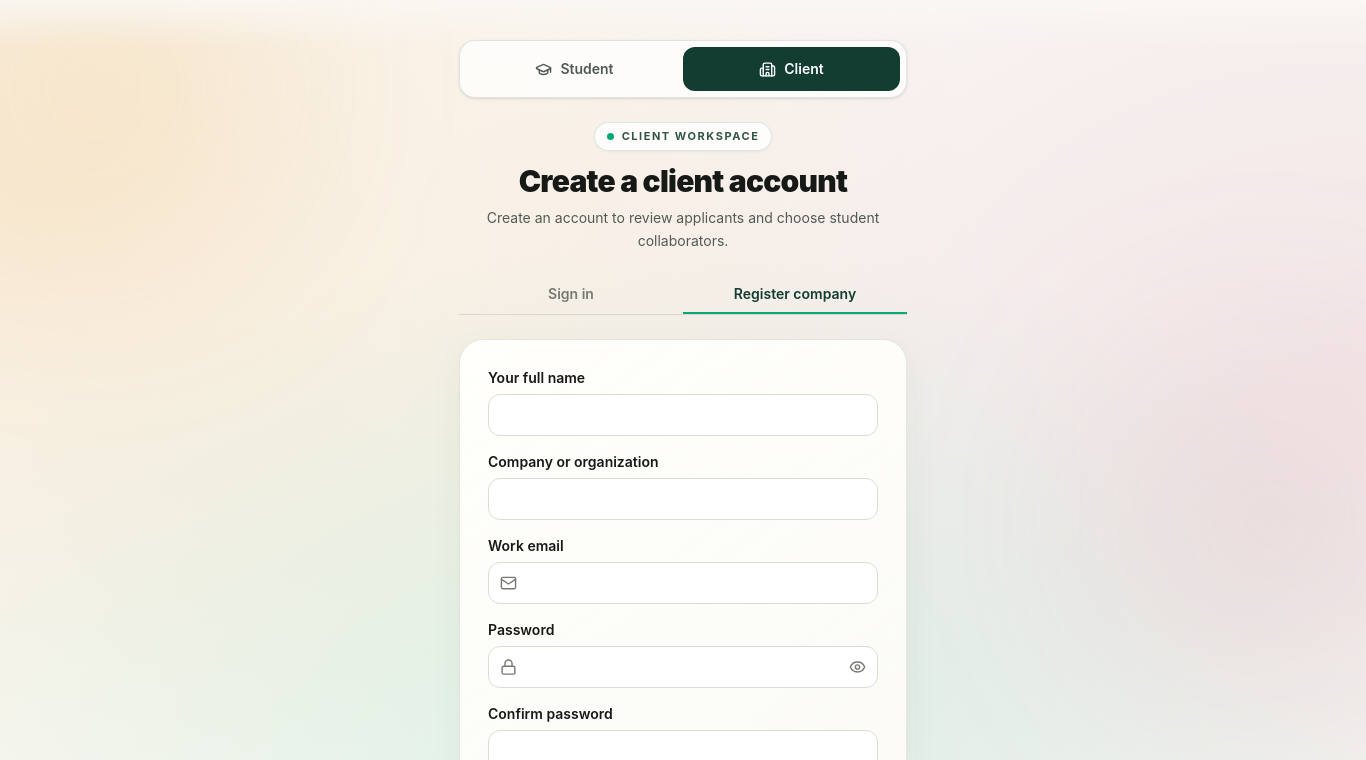
it: SignInPage › shows confirmation instructions and a resend action after client registration
In the field labelled "Your full name": (683, 415) left=488, top=394, right=878, bottom=436, type "Aarav Mehta"
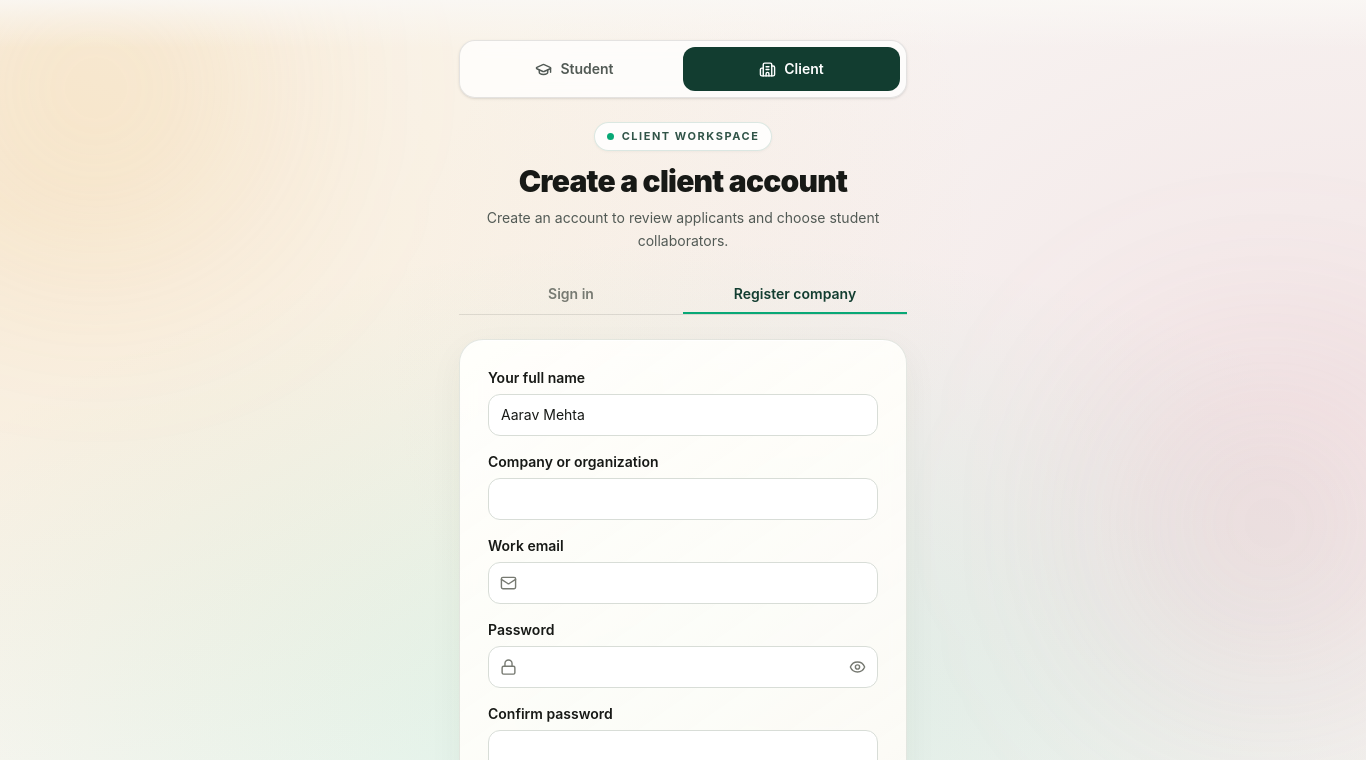
In the field labelled "Company or organization": (683, 499) left=488, top=478, right=878, bottom=520, type "Studio Co"
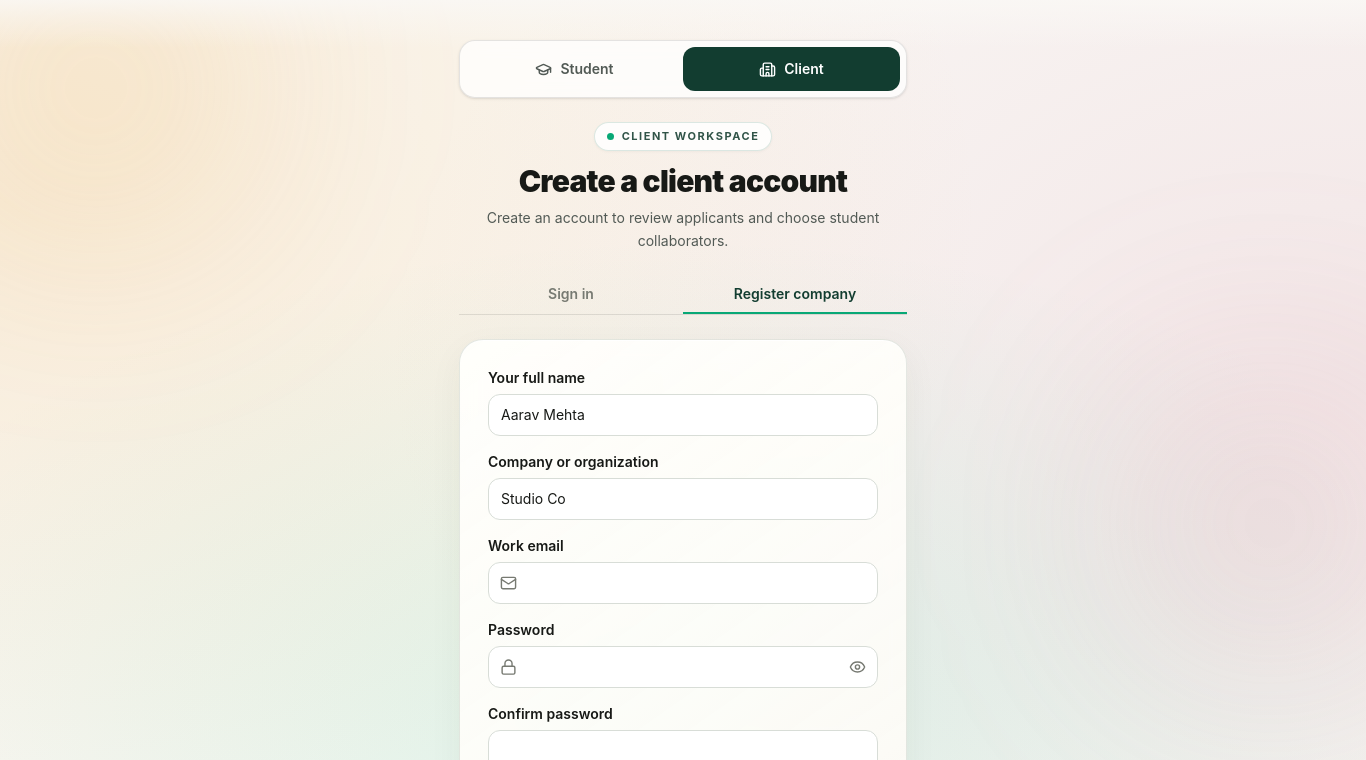
In the field labelled "Work email": (683, 583) left=488, top=562, right=878, bottom=604, type "aarav@studio.co"
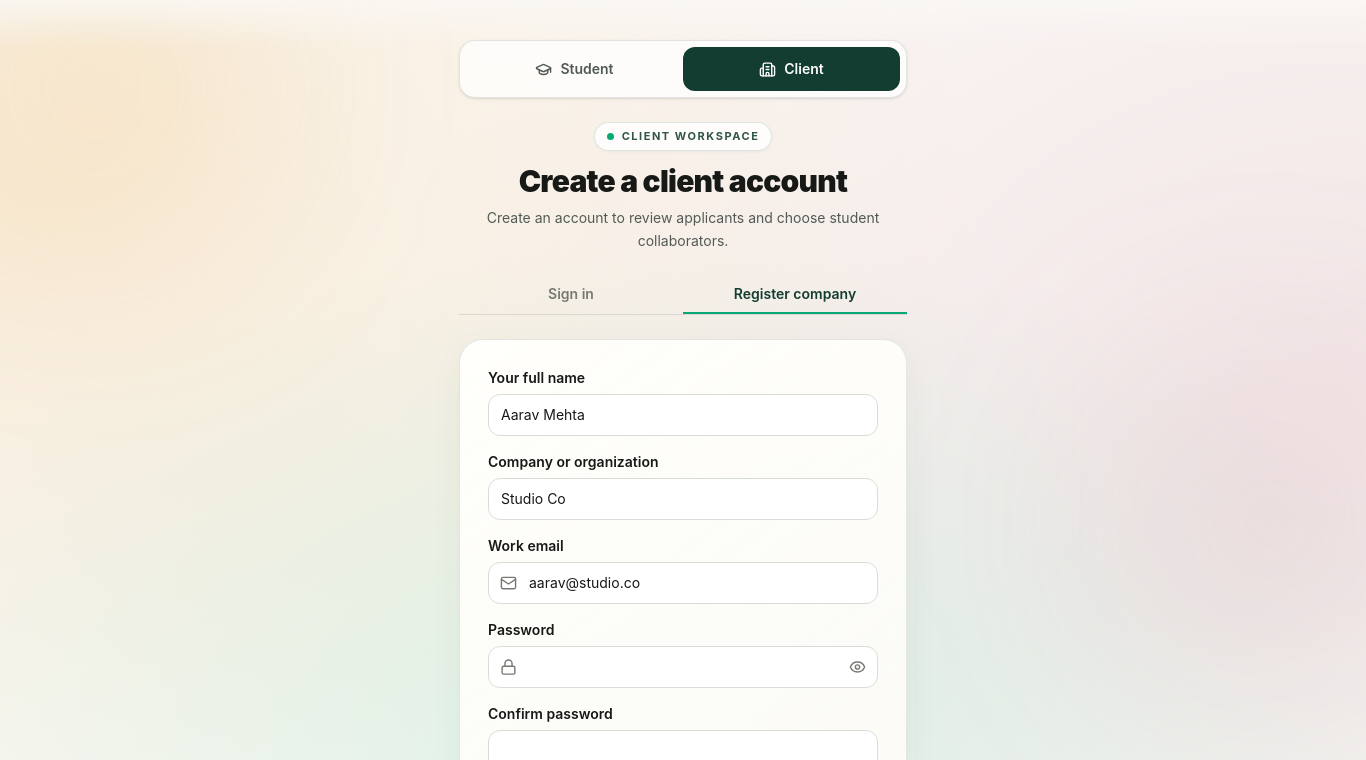
In the password field labelled "Password": (683, 667) left=488, top=646, right=878, bottom=688, type "secure-pass"
(page scrolled)
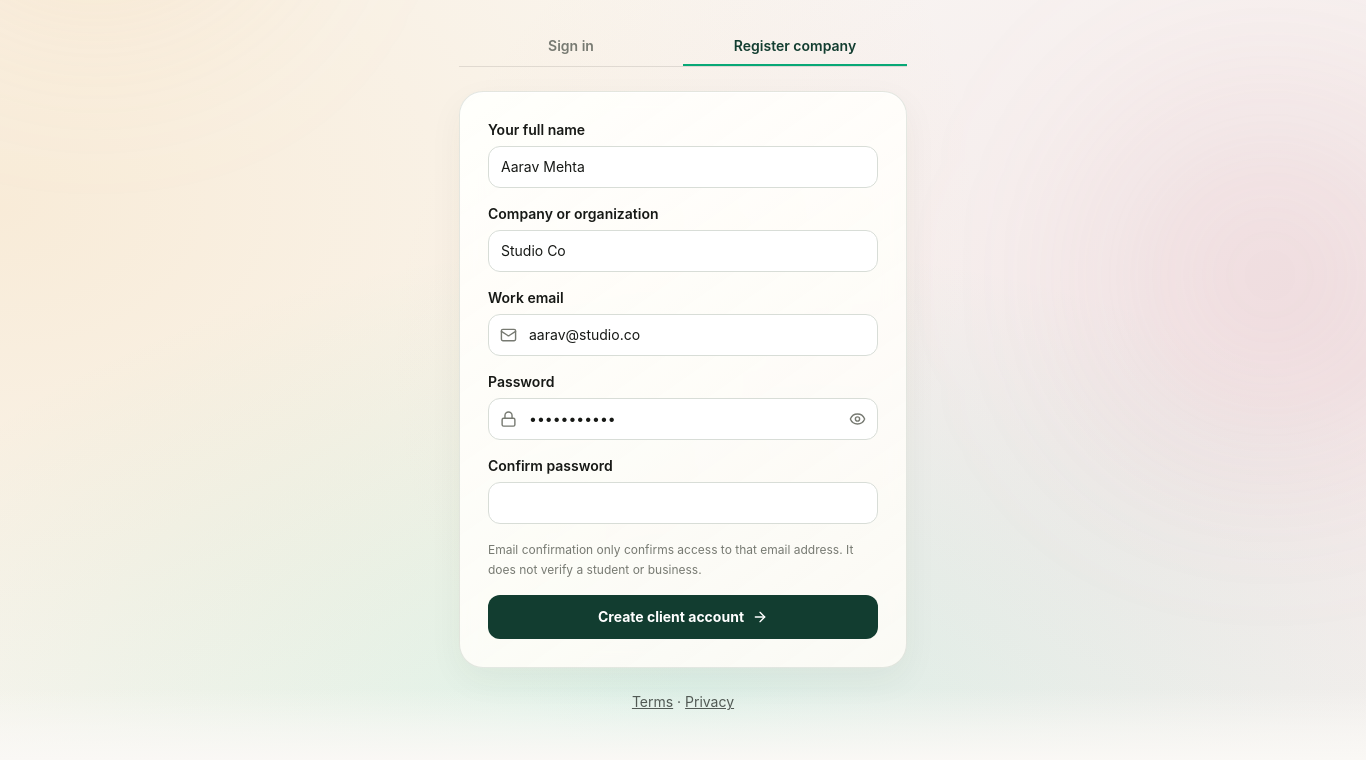
In the password field labelled "Confirm password": (683, 503) left=488, top=482, right=878, bottom=524, type "secure-pass"
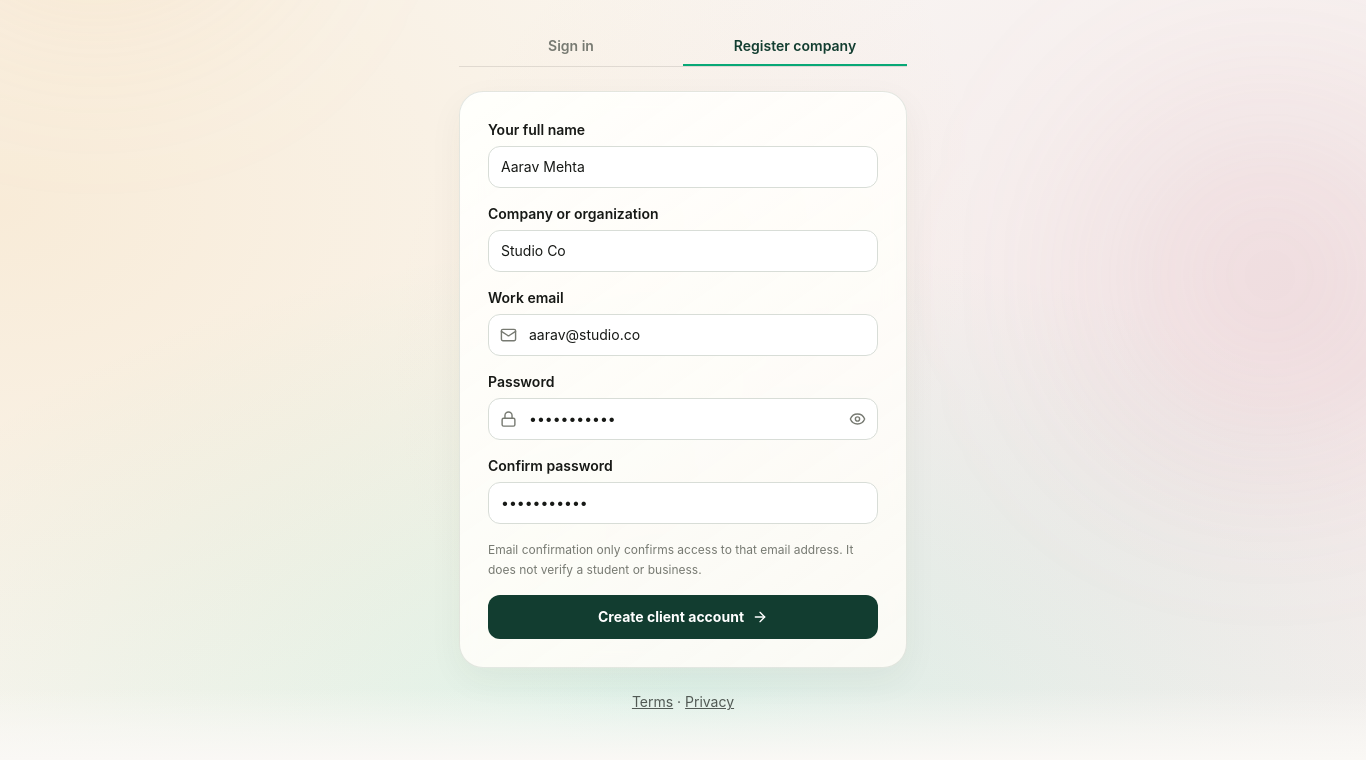
Click the button "Create client account": (683, 617) left=488, top=595, right=878, bottom=639
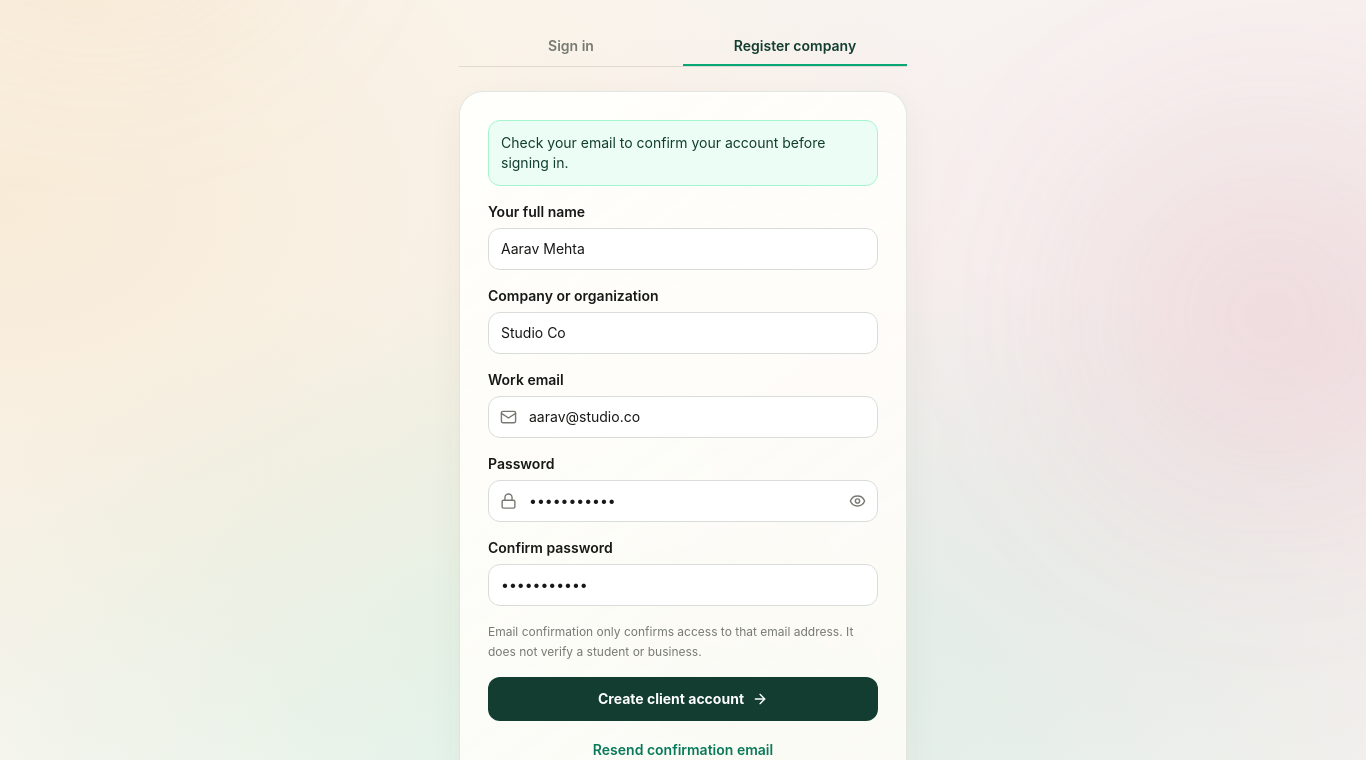
Expected: the message shows "Check your email to confirm", left=501, top=134, right=825, bottom=171
Expected: the button "Resend confirmation email" is shown, left=488, top=740, right=878, bottom=759
